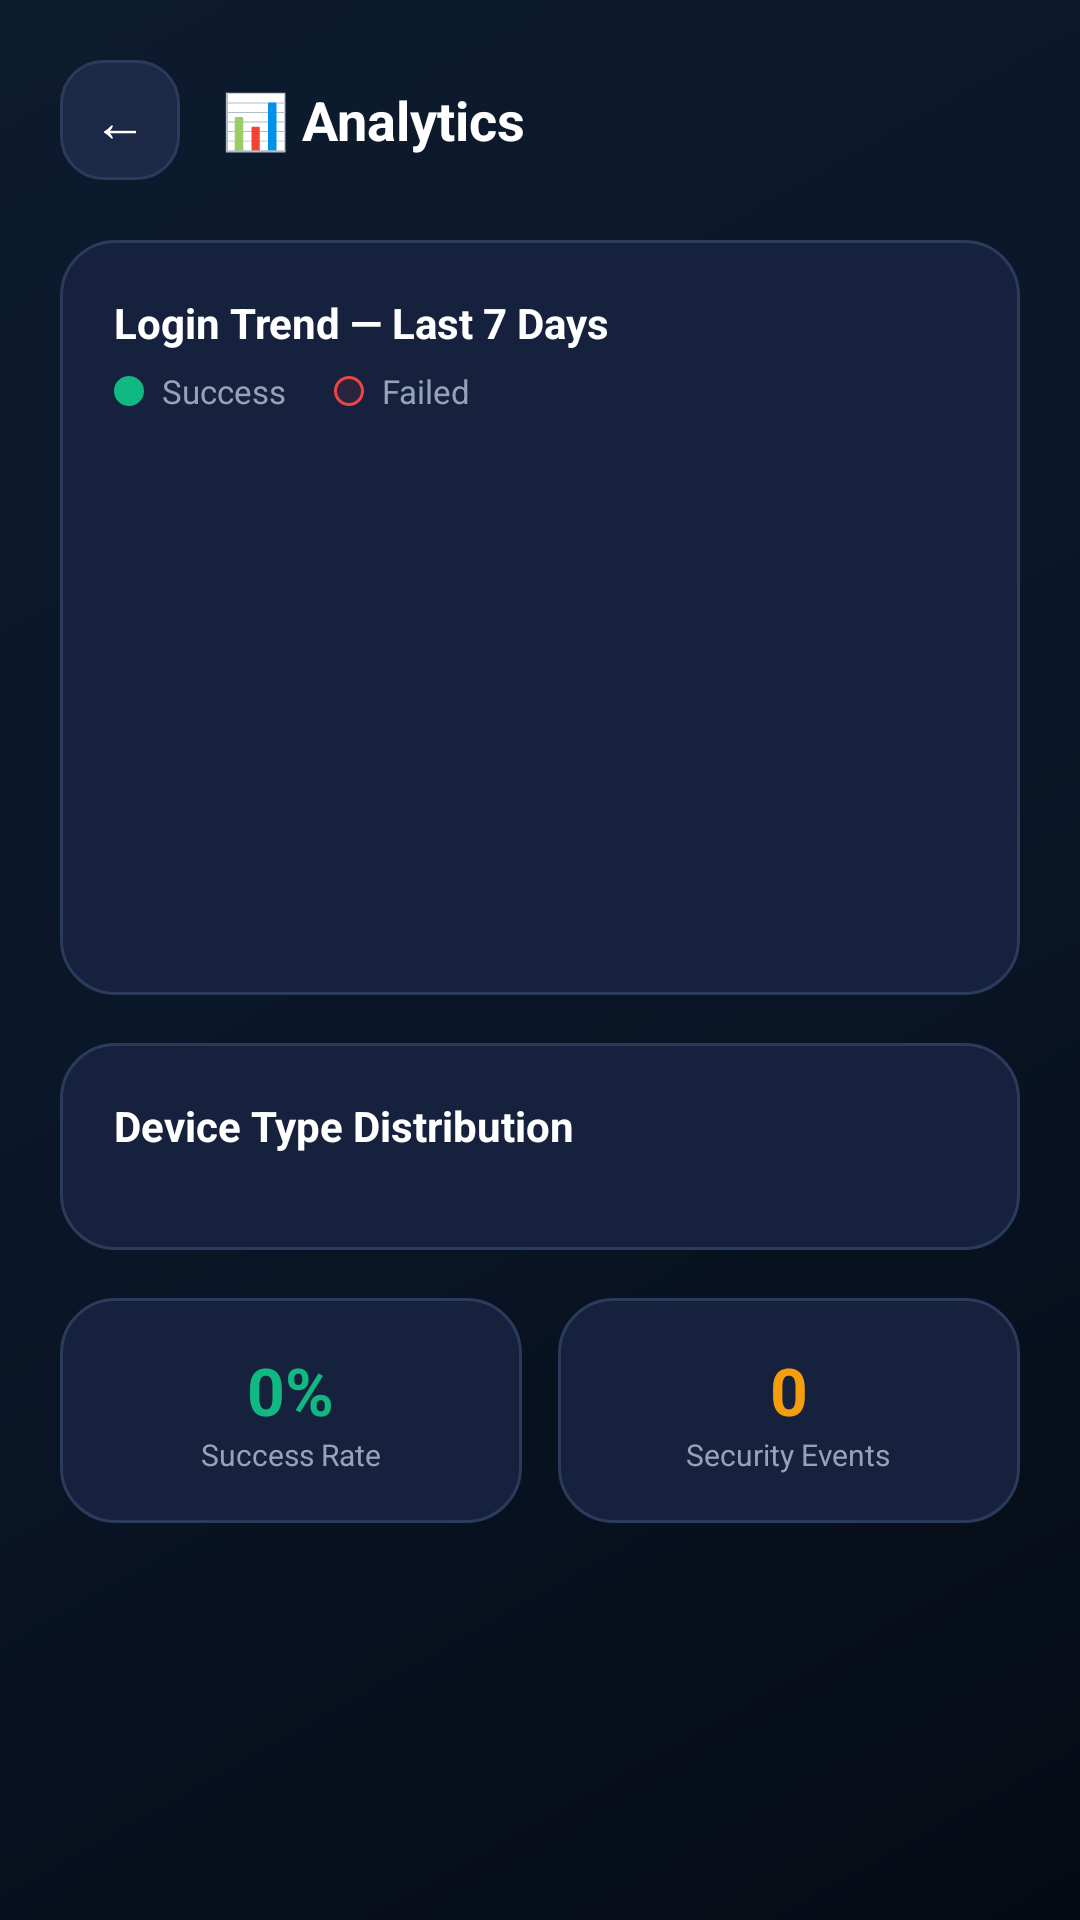

Named icons in this screenshot (1080x1920) and their bounding boxes, (x1, y1, x2, y2):
badge danger: (334, 376, 364, 406)
dot indicator: (114, 376, 144, 406)
